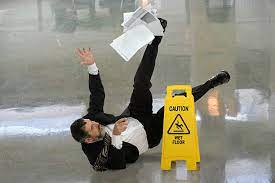wet caution sign: (155, 83, 206, 175)
